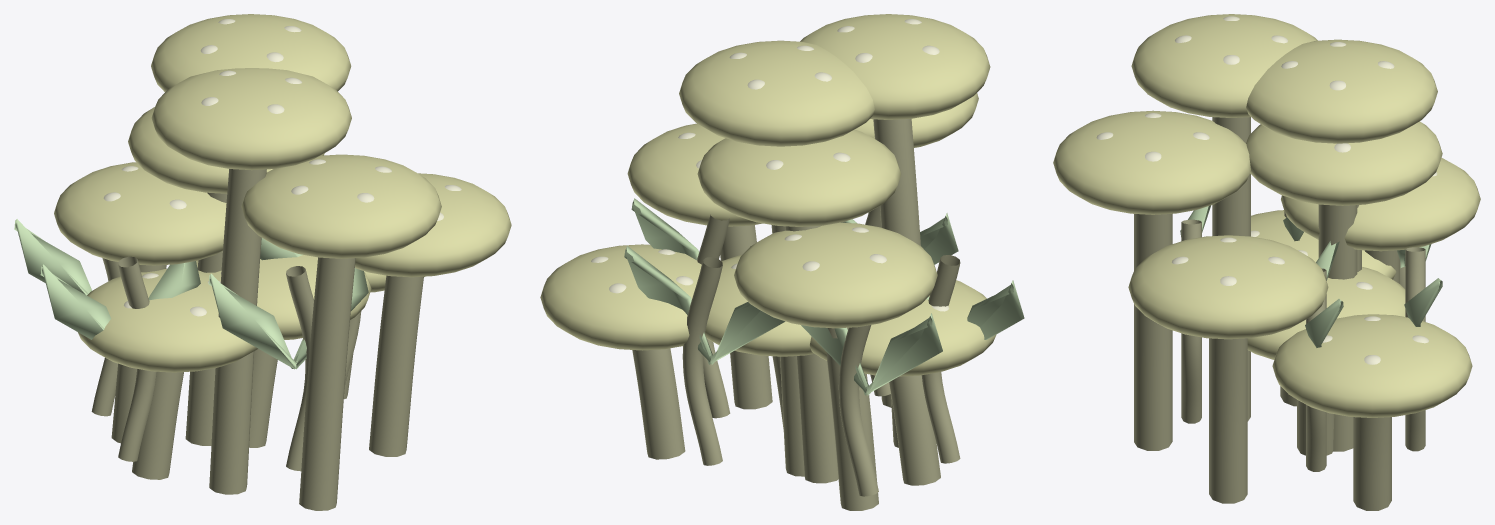
The model's file is bio_spore_fungus_17_near.glb.
3 renders of one model, left to right at view 1: azimuth 30°, elevation 25°; view 2: azimuth 150°, elevation 25°; view 3: azimuth 270°, elevation 25°, orthographic.
Visible parts, largest first — view 1: Thick umbrella cap.007, Thick umbrella cap.002, Thick umbrella cap.001, Thick umbrella cap.004, Thick umbrella cap.003, Curved stipe.002, Curved stipe.007, Thick umbrella cap.005, Curved stipe.005, Secondary fan lobe.004, Secondary fan lobe.008, Thick umbrella cap.006 (+9 smaller); view 2: Thick umbrella cap.001, Thick umbrella cap.003, Thick umbrella cap.006, Thick umbrella cap.007, Thick umbrella cap.008, Thick umbrella cap.005, Thick umbrella cap.004, Branching support.003, Curved stipe.006, Curved stipe.008, Curved stipe.004, Secondary fan lobe.006 (+13 smaller); view 3: Thick umbrella cap.005, Thick umbrella cap.002, Thick umbrella cap.008, Thick umbrella cap.003, Thick umbrella cap.007, Thick umbrella cap.006, Thick umbrella cap.001, Curved stipe.002, Curved stipe.005, Thick umbrella cap, Curved stipe.008, Curved stipe.003 (+9 smaller).
Part boxes in pixels (<box>): Thick umbrella cap.007: <box>151,68,351,170</box>; Thick umbrella cap.002: <box>241,154,441,258</box>; Thick umbrella cap.001: <box>54,162,226,265</box>; Thick umbrella cap.004: <box>78,268,257,372</box>; Thick umbrella cap.003: <box>151,14,351,91</box>; Curved stipe.002: <box>299,257,355,510</box>; Curved stipe.007: <box>209,169,266,494</box>; Thick umbrella cap.005: <box>355,173,511,277</box>; Curved stipe.005: <box>369,275,423,456</box>; Secondary fan lobe.004: <box>208,268,368,369</box>; Secondary fan lobe.008: <box>40,261,200,339</box>; Thick umbrella cap.006: <box>128,107,324,193</box>; Thick umbrella cap.001: <box>734,222,937,328</box>; Thick umbrella cap.003: <box>679,40,874,146</box>; Thick umbrella cap.006: <box>697,129,901,226</box>; Thick umbrella cap.007: <box>800,14,990,119</box>; Thick umbrella cap.008: <box>540,244,701,350</box>; Thick umbrella cap.005: <box>627,123,762,226</box>; Thick umbrella cap.004: <box>810,280,996,376</box>; Branching support.003: <box>682,257,722,465</box>; Curved stipe.006: <box>785,225,838,483</box>; Curved stipe.008: <box>632,348,685,459</box>; Curved stipe.004: <box>889,375,940,485</box>; Secondary fan lobe.006: <box>624,246,785,364</box>; Thick umbrella cap.005: <box>1128,235,1328,339</box>; Thick umbrella cap.002: <box>1053,110,1250,214</box>; Thick umbrella cap.008: <box>1272,314,1472,417</box>; Thick umbrella cap.003: <box>1246,39,1437,143</box>; Thick umbrella cap.007: <box>1131,14,1317,117</box>; Thick umbrella cap.006: <box>1246,121,1442,205</box>; Thick umbrella cap.001: <box>1281,157,1480,251</box>; Curved stipe.002: <box>1134,214,1172,450</box>; Curved stipe.005: <box>1209,338,1247,503</box>; Thick umbrella cap: <box>1247,267,1405,359</box>; Curved stipe.008: <box>1353,417,1391,510</box>; Curved stipe.003: <box>1318,204,1357,451</box>.
Bounding box in the file's own units: 2.16 × 1.92 × 1.88.
